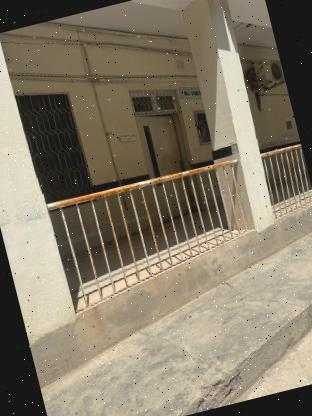door: (120, 76, 210, 233)
